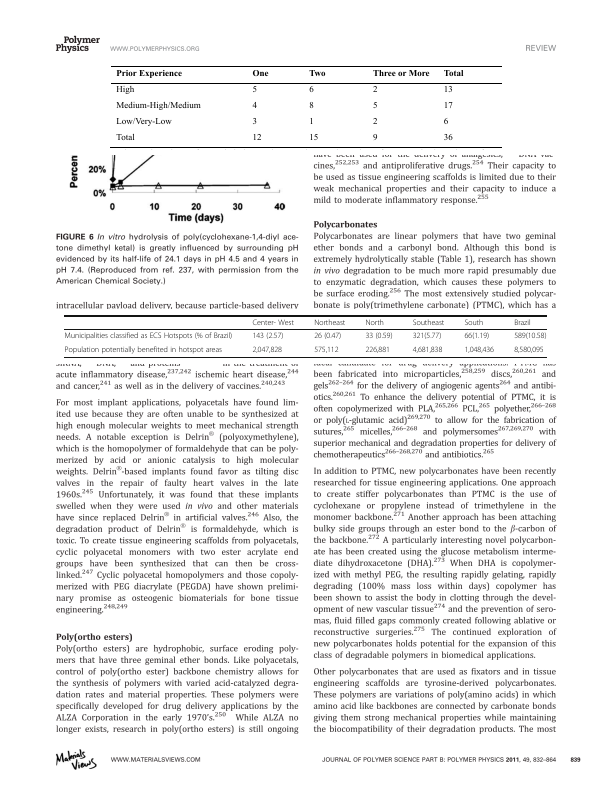borderless: (110, 64, 502, 147), (64, 314, 547, 357)
cell: (64, 331, 233, 341), (64, 345, 223, 355), (115, 101, 201, 111), (115, 68, 182, 78), (371, 68, 430, 78), (115, 117, 172, 127), (251, 318, 295, 327), (513, 331, 547, 341), (251, 331, 284, 341), (251, 345, 283, 355), (463, 345, 495, 355), (513, 345, 545, 355), (412, 345, 443, 355), (412, 331, 442, 341), (313, 318, 346, 327), (412, 318, 445, 327), (313, 331, 342, 341), (364, 331, 393, 341), (463, 331, 490, 341), (364, 345, 391, 355), (313, 345, 339, 355), (442, 68, 464, 78), (115, 85, 135, 95), (115, 133, 135, 143), (364, 318, 385, 327), (463, 318, 484, 327), (251, 68, 269, 78), (308, 68, 326, 78), (513, 318, 532, 327), (442, 85, 453, 95), (442, 101, 453, 111), (251, 133, 262, 143), (308, 133, 319, 143), (442, 133, 453, 143), (371, 85, 378, 95), (371, 101, 378, 111), (371, 117, 378, 127), (442, 117, 449, 127), (371, 133, 378, 143), (251, 85, 257, 95), (308, 85, 314, 95), (251, 101, 257, 111), (308, 101, 314, 111), (251, 117, 257, 127), (308, 117, 314, 127)
